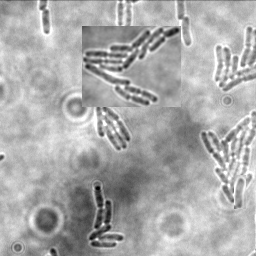Dividing: (41, 8, 52, 35)
Microcolony: (82, 26, 181, 107), (200, 109, 255, 205), (212, 25, 255, 94), (89, 184, 126, 248), (96, 107, 132, 150), (234, 175, 246, 209), (182, 16, 193, 48)
